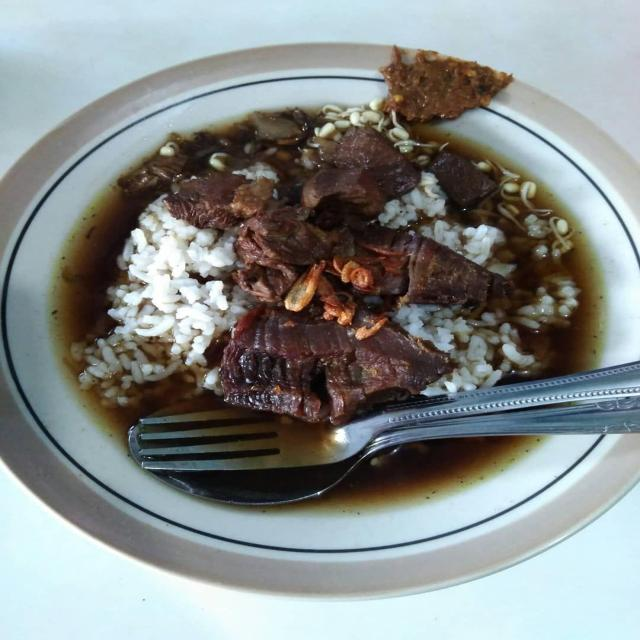Rawon: (86, 113, 562, 500)
